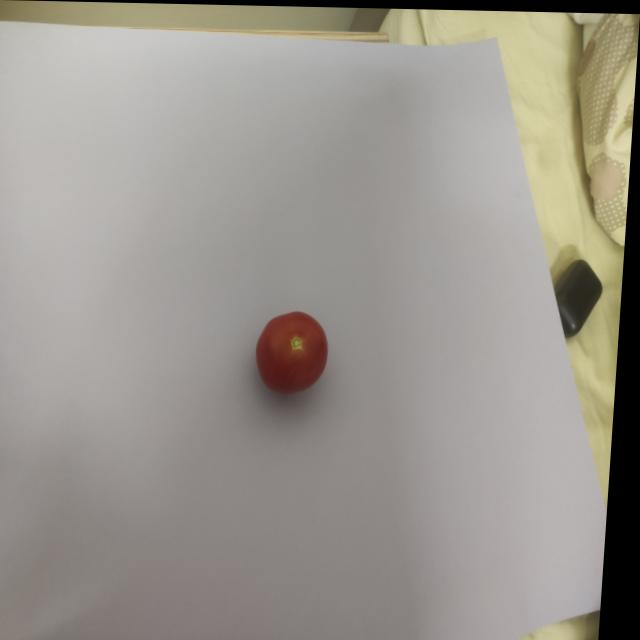kirmizi: (238, 298, 343, 397)
